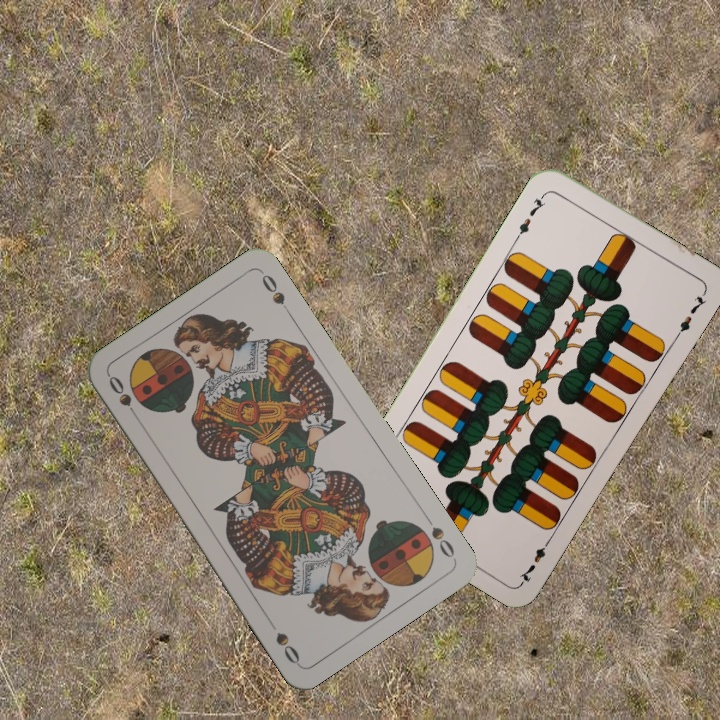E7: (516, 533, 555, 586), (511, 189, 549, 242)
SO: (104, 371, 143, 424), (420, 510, 458, 561)
